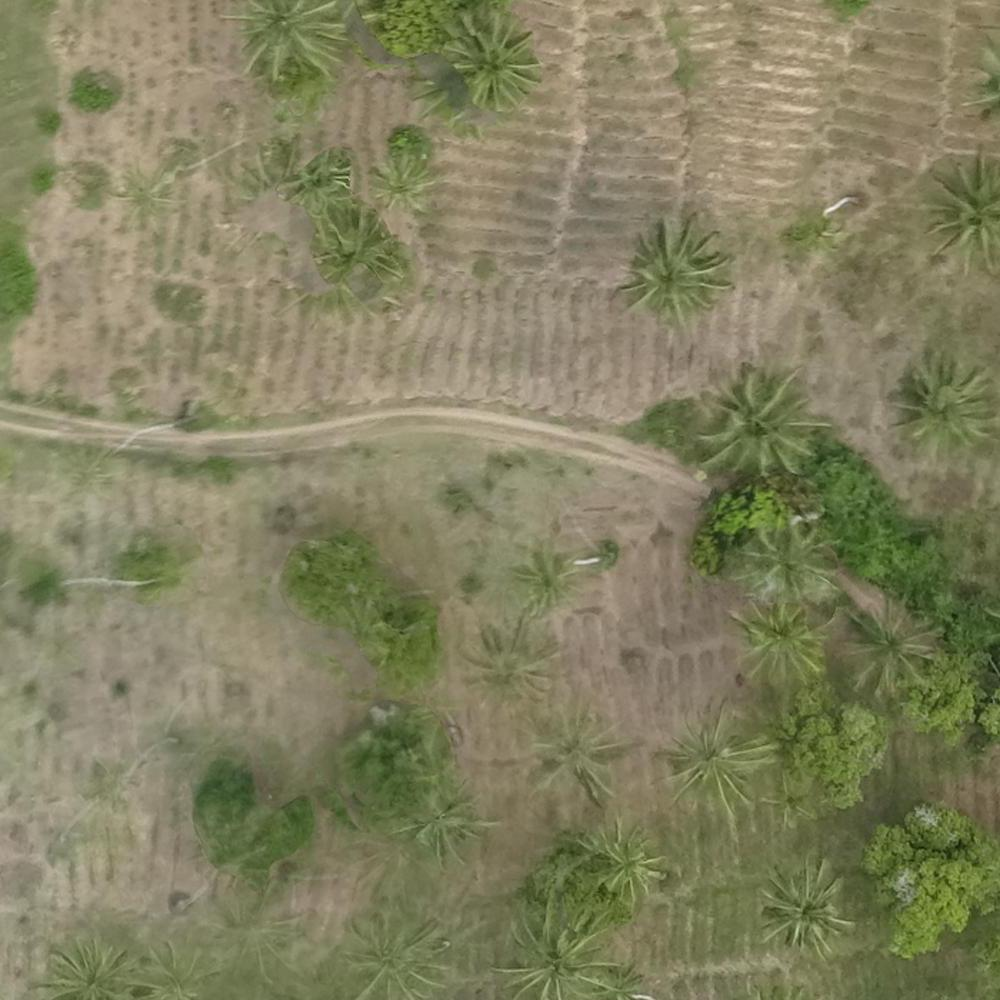Palm: (662, 705, 772, 826), (703, 366, 819, 465), (500, 897, 614, 993), (629, 216, 736, 317), (891, 349, 995, 452), (224, 1, 351, 85), (444, 16, 547, 115), (838, 599, 938, 696), (918, 147, 1000, 265), (525, 704, 621, 800), (757, 858, 852, 952), (729, 595, 828, 685), (507, 541, 591, 619), (592, 825, 669, 900)
